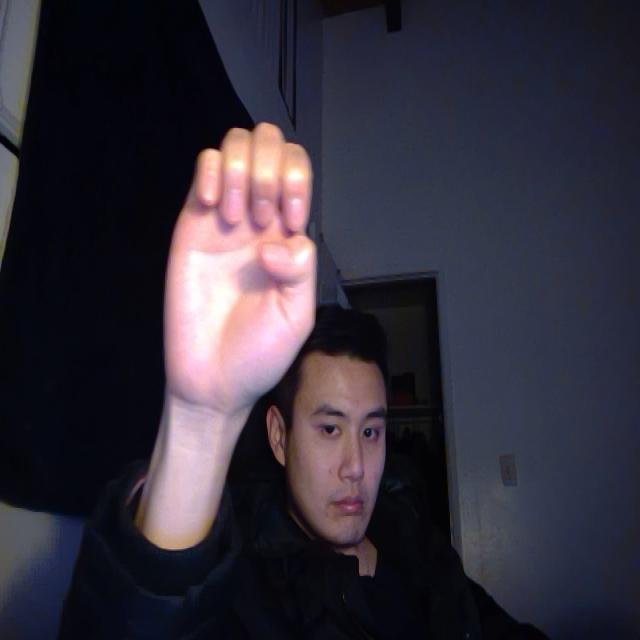E: (153, 81, 350, 452)
